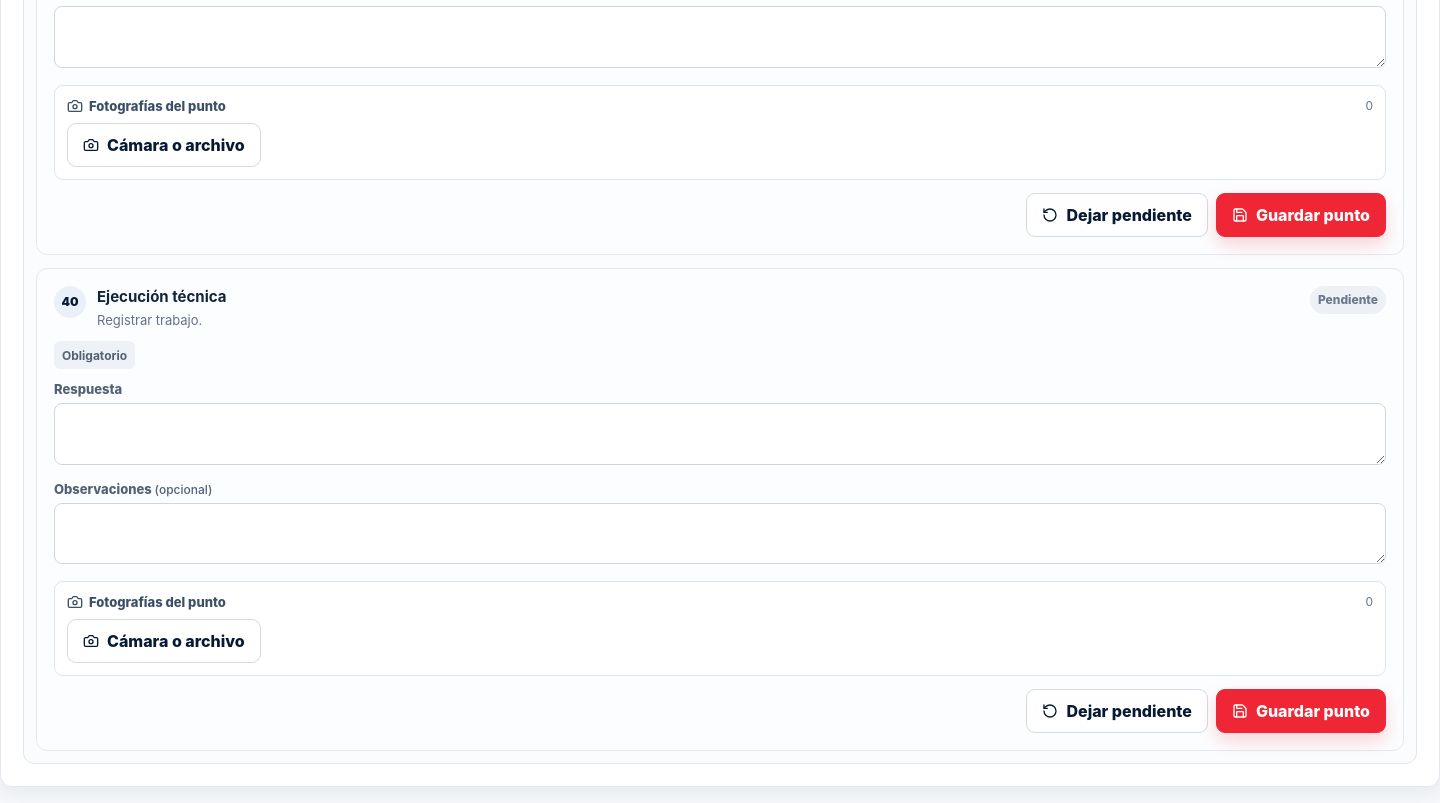
it: WorkOrderChecklistPanel › muestra el error de guardado sin perder el formulario
The width and height of the screenshot is (1440, 803).
(page scrolled)
Click the 2nd button "Guardar punto": (1301, 711) [1216,689,1386,733]
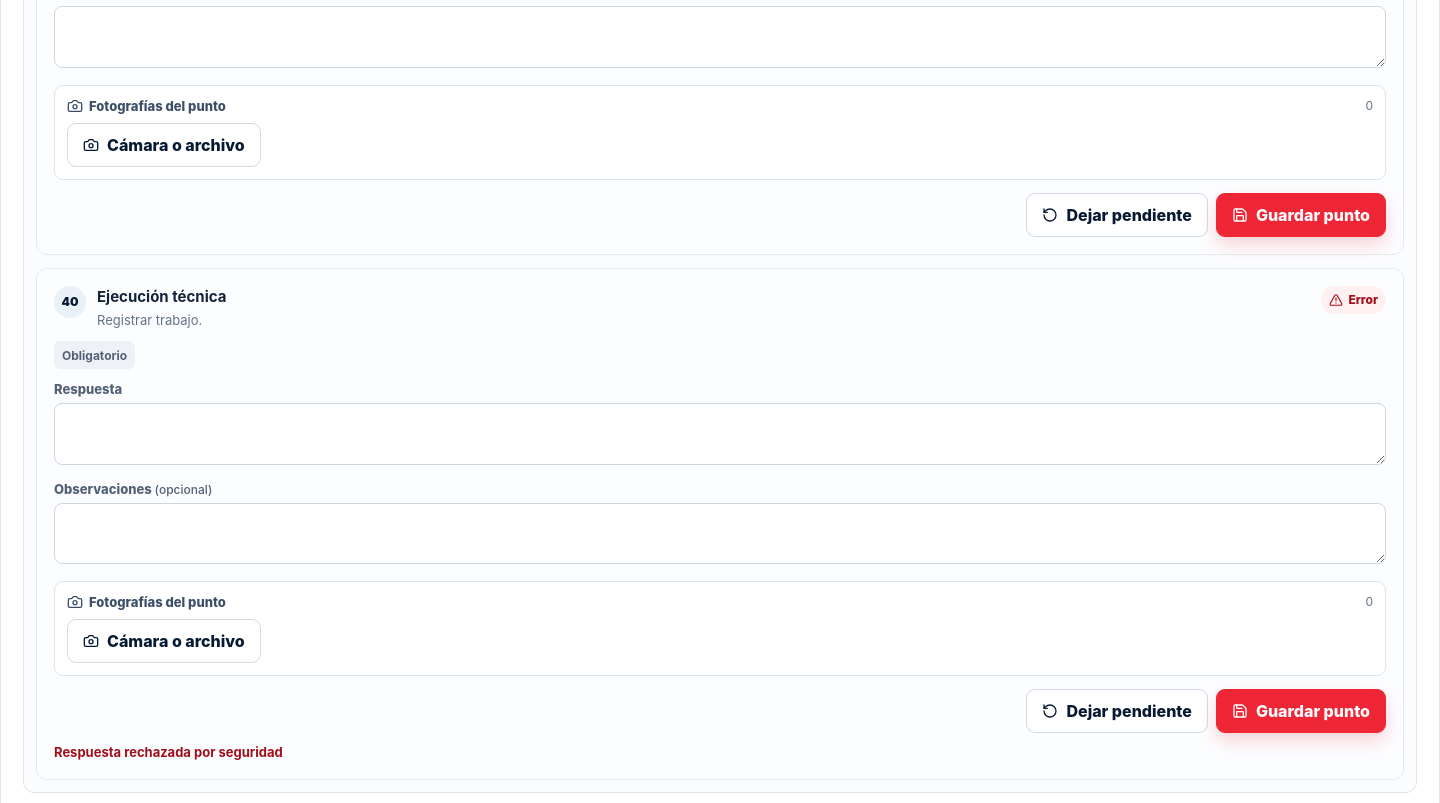
Expected: the text "Respuesta rechazada por seguridad" is shown, [54,744,283,760]
Expected: the text "Error" is shown, [1321,286,1386,314]
